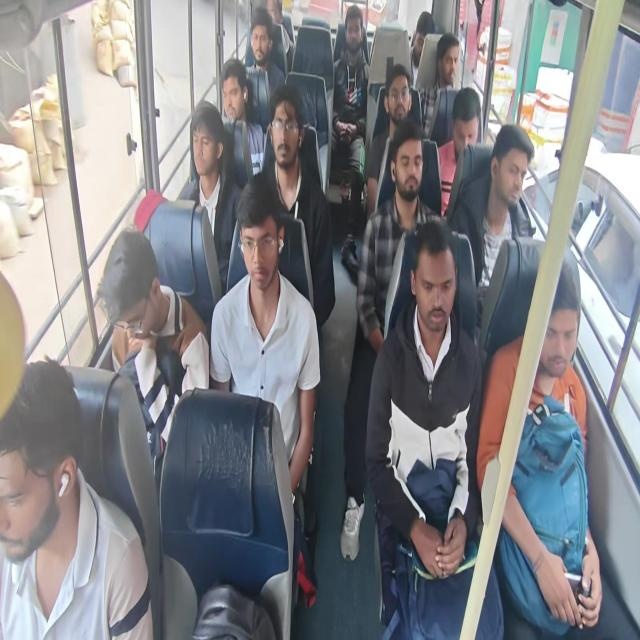person: (365, 218, 504, 638), (476, 252, 602, 636), (340, 119, 443, 562), (0, 357, 153, 639), (209, 178, 321, 498), (95, 226, 209, 460), (257, 84, 335, 330), (450, 122, 534, 336), (177, 101, 242, 294), (331, 5, 370, 273), (365, 63, 415, 218), (438, 86, 482, 216), (219, 57, 264, 181), (420, 32, 460, 136), (244, 7, 286, 97), (265, 0, 295, 74), (410, 10, 434, 86)
